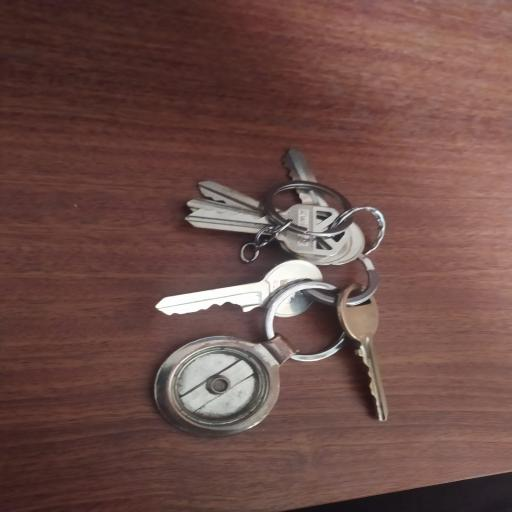Llaves: (142, 140, 402, 442)
